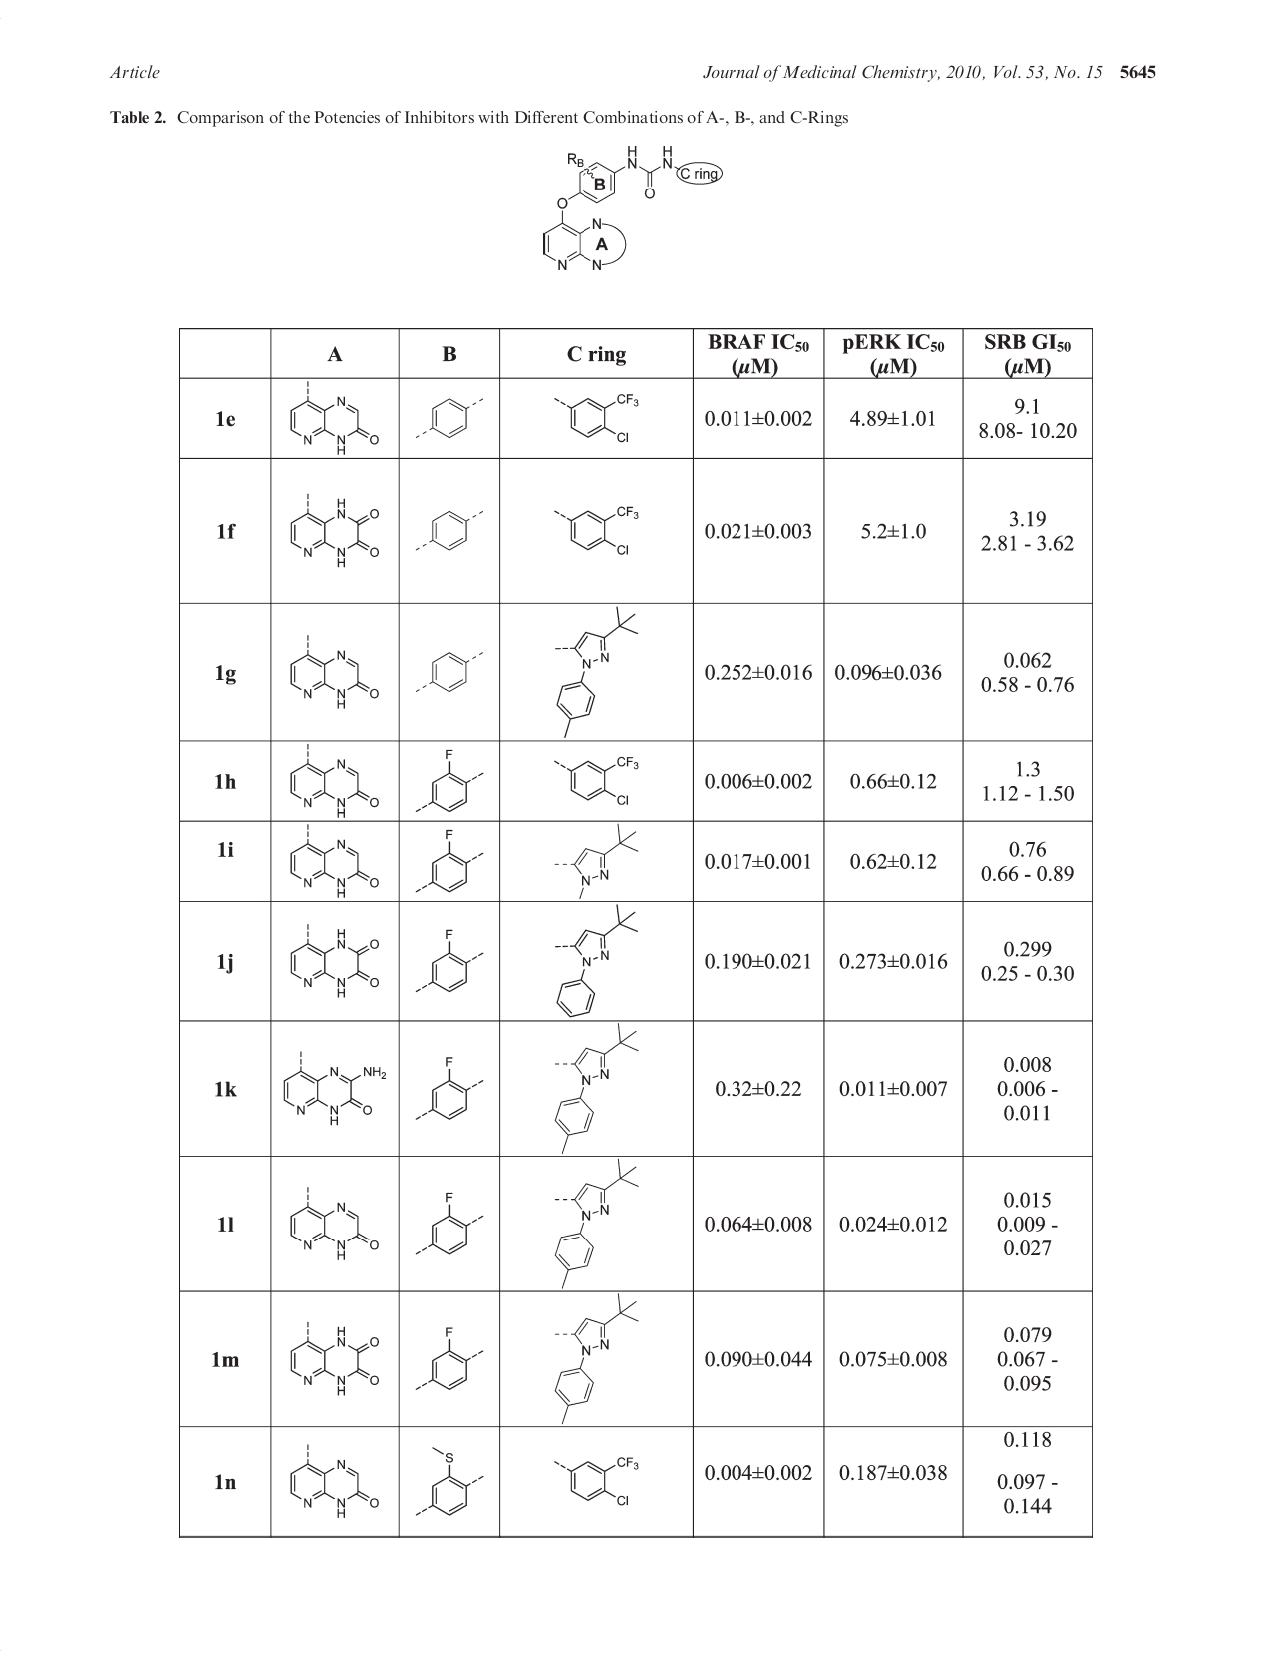exist_molecular: (540, 144, 725, 274), (551, 1021, 640, 1154), (552, 1293, 641, 1426), (552, 606, 640, 738), (549, 1160, 638, 1289), (553, 904, 640, 1017), (286, 489, 386, 571), (283, 1051, 386, 1126), (287, 630, 378, 711), (289, 920, 382, 999), (289, 1184, 379, 1263), (287, 742, 382, 818), (289, 1321, 382, 1396), (290, 1443, 380, 1520), (287, 382, 380, 455), (290, 825, 382, 898), (553, 825, 640, 900), (414, 1444, 485, 1519), (411, 1055, 488, 1122), (552, 501, 642, 559), (414, 926, 484, 996), (415, 746, 488, 814), (412, 1192, 485, 1259), (412, 1325, 485, 1392), (553, 391, 641, 447), (553, 753, 640, 807), (416, 827, 485, 892), (553, 1454, 640, 1505), (414, 392, 488, 442), (414, 505, 485, 556), (415, 646, 488, 693)
